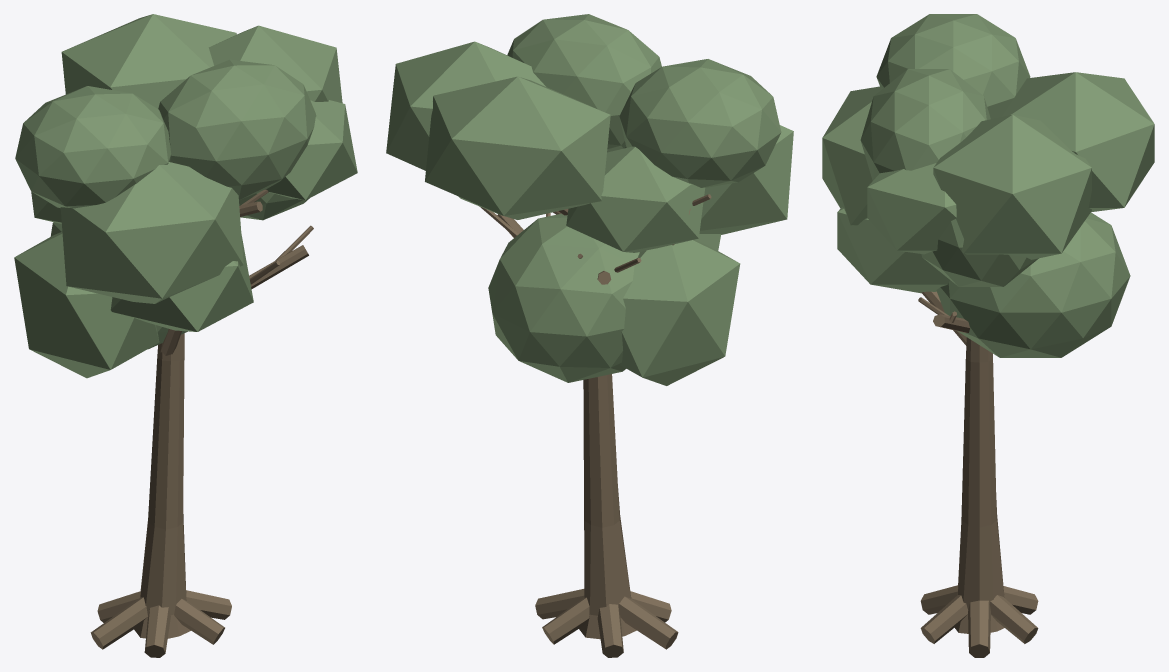
The model's file is broadleaf_a.glb.
3 renders of one model, left to right at view 1: azimuth 30°, elevation 25°; view 2: azimuth 150°, elevation 25°; view 3: azimuth 270°, elevation 25°, orthographic.
Parts seen in each view (by area): view 1: broadleaf_a LOD0; view 2: broadleaf_a LOD0; view 3: broadleaf_a LOD0.
Boxes of the visible parts, x1,y1,x2,y2 form: broadleaf_a LOD0: [14, 14, 357, 657]; broadleaf_a LOD0: [386, 14, 793, 657]; broadleaf_a LOD0: [822, 14, 1154, 657].
Size of what is drawn, in the model's own units: 6.07 by 9.83 by 5.14.
